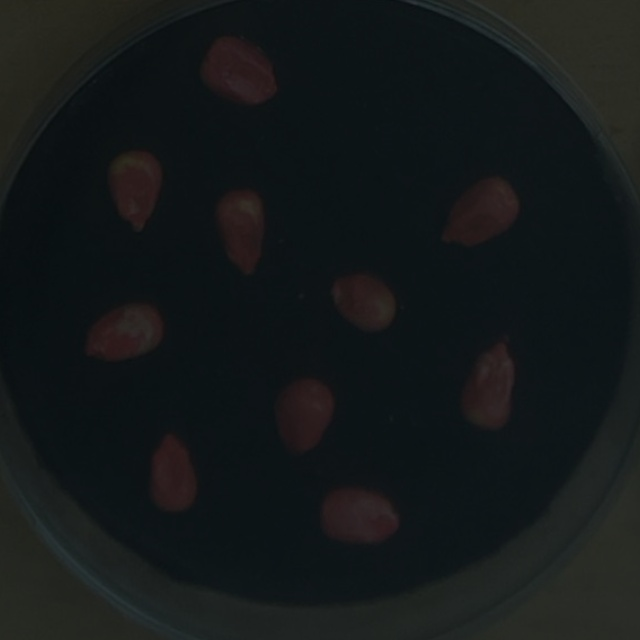Zea mays: (189, 25, 285, 114), (432, 170, 527, 254), (450, 329, 521, 439), (264, 370, 342, 466), (74, 294, 171, 370), (310, 478, 407, 553), (97, 141, 171, 239), (206, 183, 273, 283), (139, 424, 207, 520), (321, 263, 405, 340)
